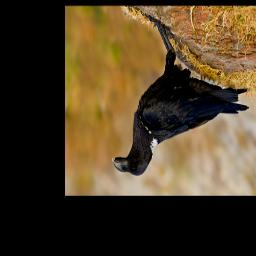Crow: (111, 14, 249, 176)
